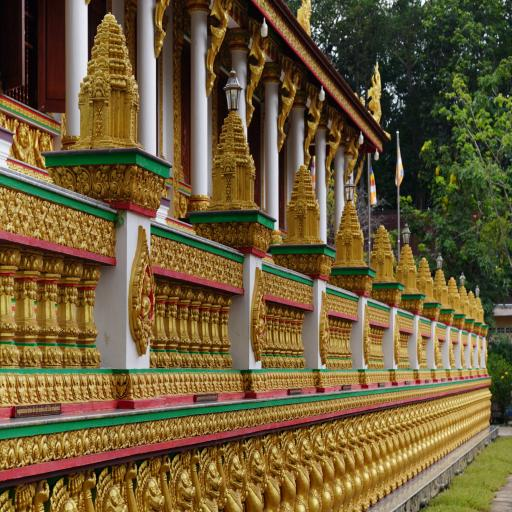ran: (360, 53, 391, 129), (296, 0, 318, 45)
than: (200, 0, 231, 102), (272, 54, 302, 150), (245, 17, 269, 129), (216, 433, 246, 512), (125, 457, 167, 512), (86, 460, 130, 512), (258, 426, 283, 512), (159, 458, 198, 512), (302, 83, 326, 168), (308, 417, 328, 512), (190, 450, 220, 512), (48, 473, 92, 512), (152, 0, 178, 63), (0, 483, 55, 512), (5, 116, 32, 174), (322, 416, 338, 512), (244, 433, 263, 512), (281, 425, 298, 512), (334, 414, 349, 512), (295, 417, 310, 512), (30, 123, 53, 174), (346, 123, 360, 195), (328, 104, 340, 182), (139, 269, 153, 323), (174, 190, 189, 222), (256, 292, 266, 338), (323, 318, 331, 354)
